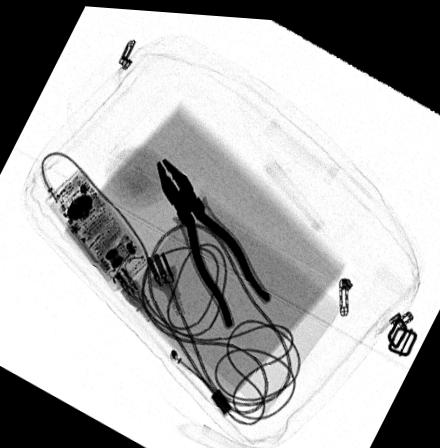Pliers: (155, 156, 272, 329)
